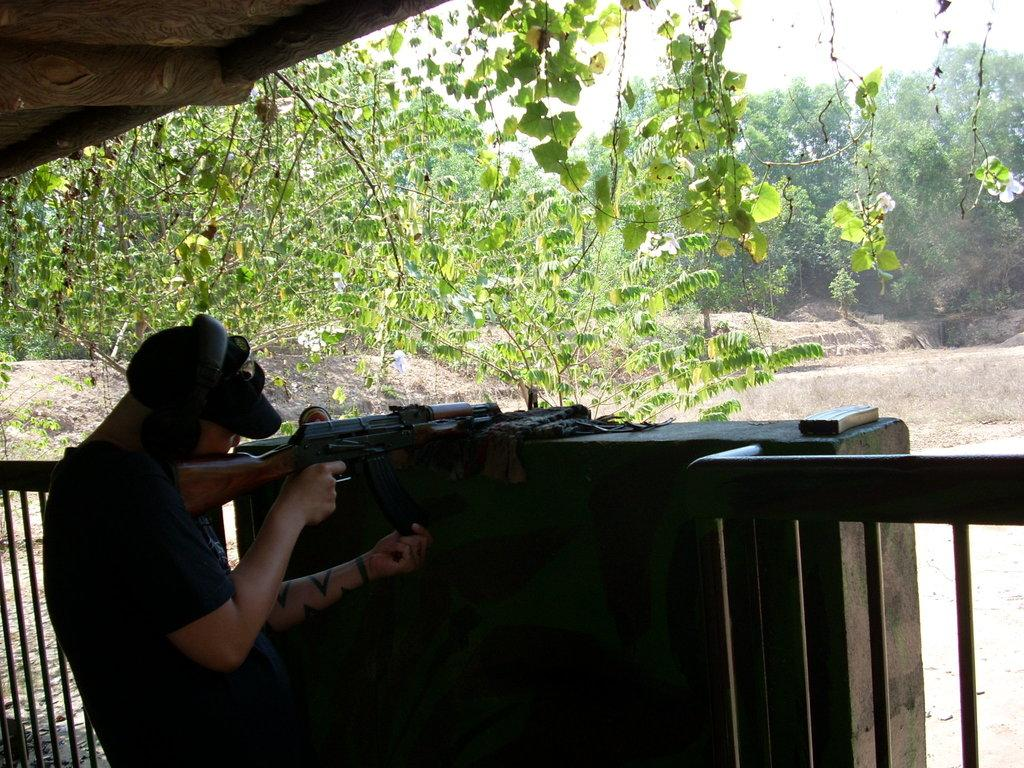Rifle: (179, 402, 502, 535)
